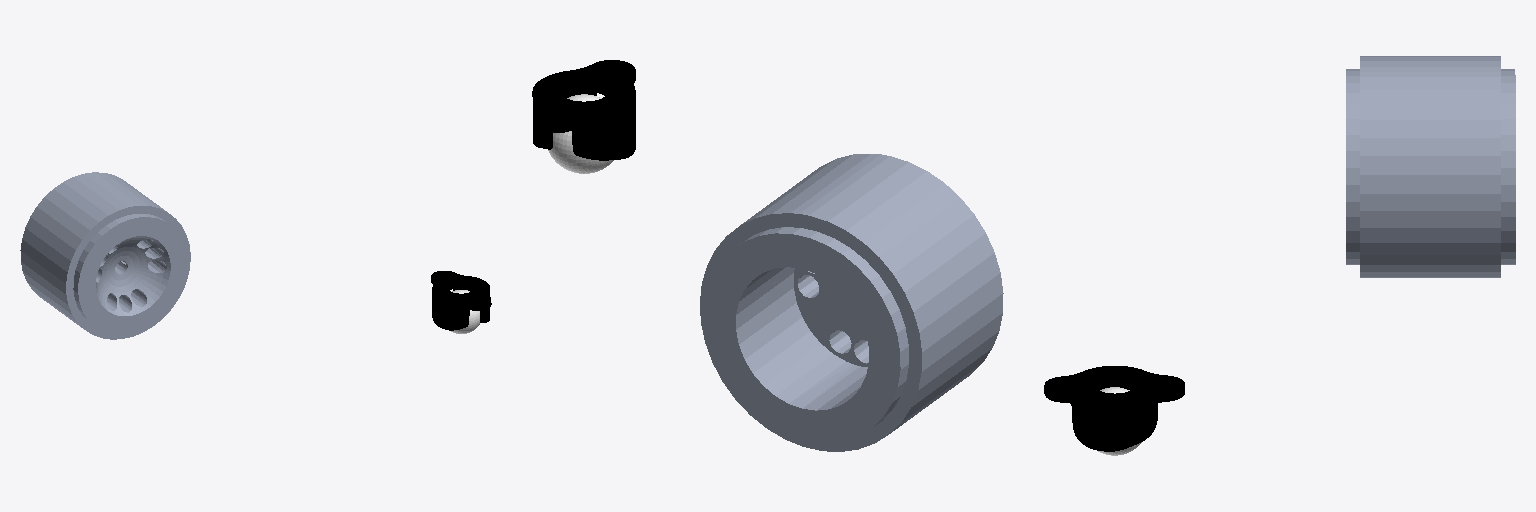
The robot description file, URDF, robot "MazeRobot_description":
<?xml version="1.0" encoding="utf-8"?>
<!-- This URDF was automatically created by SolidWorks to URDF Exporter! Originally created by [author] ([email redacted]) 
     Commit Version: 1.6.0-4-g7f85cfe  Build Version: 1.6.7995.38578
     For more information, please see http://wiki.ros.org/sw_urdf_exporter -->
<robot
  name="MazeRobot_description">
  <link
    name="base_link">
    <inertial>
      <origin
        xyz="0.00490709777806277 -0.00018980149074092 0.0158541076050415"
        rpy="0 0 0" />
      <mass
        value="0.113840294442823" />
      <inertia
        ixx="6.20713657332795E-05"
        ixy="3.73859938549773E-07"
        ixz="-2.92245316767898E-07"
        iyy="8.49118196111279E-05"
        iyz="-9.75716180324089E-08"
        izz="0.00014401772306779" />
    </inertial>
    <visual>
      <origin
        xyz="0 0 0"
        rpy="0 0 0" />
      <geometry>
        <mesh
          filename="package://MazeRobot_description/meshes/base_link.STL" />
      </geometry>
      <material
        name="">
        <color
          rgba="0.792156862745098 0.819607843137255 0.933333333333333 1" />
      </material>
    </visual>
    <collision>
      <origin
        xyz="0 0 0"
        rpy="0 0 0" />
      <geometry>
        <mesh
          filename="package://MazeRobot_description/meshes/base_link.STL" />
      </geometry>
    </collision>
  </link>
  <link
    name="L_wheel_link">
    <inertial>
      <origin
        xyz="-2.99096858125819E-05 0.000104405542786706 0.0106748994421485"
        rpy="0 0 0" />
      <mass
        value="0.0193884068569417" />
      <inertia
        ixx="2.0510194557915E-06"
        ixy="-1.38176554484537E-09"
        ixz="-1.25876332418469E-09"
        iyy="2.06467928427853E-06"
        iyz="5.48385935622177E-09"
        izz="2.44092899915579E-06" />
    </inertial>
    <visual>
      <origin
        xyz="0 0 0"
        rpy="0 0 0" />
      <geometry>
        <mesh
          filename="package://MazeRobot_description/meshes/L_wheel_link.STL" />
      </geometry>
      <material
        name="">
        <color
          rgba="0.666666666666667 0.698039215686274 0.768627450980392 1" />
      </material>
    </visual>
    <collision>
      <origin
        xyz="0 0 0"
        rpy="0 0 0" />
      <geometry>
        <mesh
          filename="package://MazeRobot_description/meshes/L_wheel_link.STL" />
      </geometry>
    </collision>
  </link>
  <joint
    name="L_Wheel_joint"
    type="continuous">
    <origin
      xyz="-0.0043278 0.031199 0.0080157"
      rpy="-1.5708 0.0038917 -0.0016425" />
    <parent
      link="base_link" />
    <child
      link="L_wheel_link" />
    <axis
      xyz="0 0 1" />
  </joint>
  <link
    name="R_wheel_link">
    <inertial>
      <origin
        xyz="5.80889775016746E-05 -8.73721543165756E-05 -0.010674936298826"
        rpy="0 0 0" />
      <mass
        value="0.0193884068569417" />
      <inertia
        ixx="2.0551514945078E-06"
        ixy="-6.42512948553551E-09"
        ixz="-3.05250616726642E-09"
        iyy="2.06054394462654E-06"
        iyz="4.59129190656125E-09"
        izz="2.44093230009149E-06" />
    </inertial>
    <visual>
      <origin
        xyz="0 0 0"
        rpy="0 0 0" />
      <geometry>
        <mesh
          filename="package://MazeRobot_description/meshes/R_wheel_link.STL" />
      </geometry>
      <material
        name="">
        <color
          rgba="0.666666666666667 0.698039215686274 0.768627450980392 1" />
      </material>
    </visual>
    <collision>
      <origin
        xyz="0 0 0"
        rpy="0 0 0" />
      <geometry>
        <mesh
          filename="package://MazeRobot_description/meshes/R_wheel_link.STL" />
      </geometry>
    </collision>
  </link>
  <joint
    name="R_wheel_joint"
    type="continuous">
    <origin
      xyz="-0.0043053 -0.0312 0.008035"
      rpy="-1.5708 0 0.00018716" />
    <parent
      link="base_link" />
    <child
      link="R_wheel_link" />
    <axis
      xyz="0 0 1" />
  </joint>
  <link
    name="base_ball_link">
    <inertial>
      <origin
        xyz="-0.000156741560749171 3.66156148715047E-06 0.00175642003782412"
        rpy="0 0 0" />
      <mass
        value="0.000334626588702842" />
      <inertia
        ixx="6.32096281729359E-09"
        ixy="1.38188367097301E-11"
        ixz="1.72903645492289E-10"
        iyy="6.91894812583214E-09"
        iyz="-3.84168963283986E-12"
        izz="1.0328131558991E-08" />
    </inertial>
    <visual>
      <origin
        xyz="0 0 0"
        rpy="0 0 0" />
      <geometry>
        <mesh
          filename="package://MazeRobot_description/meshes/base_ball_link.STL" />
      </geometry>
      <material
        name="">
        <color
          rgba="0 0 0 1" />
      </material>
    </visual>
    <collision>
      <origin
        xyz="0 0 0"
        rpy="0 0 0" />
      <geometry>
        <mesh
          filename="package://MazeRobot_description/meshes/base_ball_link.STL" />
      </geometry>
    </collision>
  </link>
  <joint
    name="base_ball_joint"
    type="fixed">
    <origin
      xyz="0.0564228989028418 -3.72202777769552E-05 0.00311838120082205"
      rpy="-3.13827653428421 0 1.57098348766261" />
    <parent
      link="base_link" />
    <child
      link="base_ball_link" />
    <axis
      xyz="0 0 0" />
  </joint>
  <link
    name="foward_ball_link">
    <inertial>
      <origin
        xyz="0 -6.93889390390723E-18 3.46944695195361E-18"
        rpy="0 0 0" />
      <mass
        value="0.000421160340343921" />
      <inertia
        ixx="3.64261578363457E-09"
        ixy="-1.2278462217584E-25"
        ixz="1.29246970711411E-26"
        iyy="3.64261578363457E-09"
        iyz="-2.62532909257553E-27"
        izz="3.64261578363457E-09" />
    </inertial>
    <visual>
      <origin
        xyz="0 0 0"
        rpy="0 0 0" />
      <geometry>
        <mesh
          filename="package://MazeRobot_description/meshes/foward_ball_link.STL" />
      </geometry>
      <material
        name="">
        <color
          rgba="1 1 1 1" />
      </material>
    </visual>
    <collision>
      <origin
        xyz="0 0 0"
        rpy="0 0 0" />
      <geometry>
        <mesh
          filename="package://MazeRobot_description/meshes/foward_ball_link.STL" />
      </geometry>
    </collision>
  </link>
  <joint
    name="foward_ball_joint"
    type="fixed">
    <origin
      xyz="0 0 0.0048155"
      rpy="1.5467 0.018736 1.5131" />
    <parent
      link="base_ball_link" />
    <child
      link="foward_ball_link" />
    <axis
      xyz="0 0 0" />
  </joint>
  <link
    name="lateral_ball_link">
    <inertial>
      <origin
        xyz="0 0 0"
        rpy="0 0 0" />
      <mass
        value="0.000421160340343921" />
      <inertia
        ixx="3.64261578363457E-09"
        ixy="6.46234853557053E-27"
        ixz="1.29246970711411E-25"
        iyy="3.64261578363457E-09"
        iyz="6.46234853557053E-27"
        izz="3.64261578363457E-09" />
    </inertial>
    <visual>
      <origin
        xyz="0 0 0"
        rpy="0 0 0" />
      <geometry>
        <mesh
          filename="package://MazeRobot_description/meshes/lateral_ball_link.STL" />
      </geometry>
      <material
        name="">
        <color
          rgba="1 1 1 1" />
      </material>
    </visual>
    <collision>
      <origin
        xyz="0 0 0"
        rpy="0 0 0" />
      <geometry>
        <mesh
          filename="package://MazeRobot_description/meshes/lateral_ball_link.STL" />
      </geometry>
    </collision>
  </link>
  <joint
    name="lateral_ball_joint"
    type="fixed">
    <origin
      xyz="0 0 0.00481546875"
      rpy="-3.14159265358979 -0.0644086959094416 1.54850253991482" />
    <parent
      link="base_ball_link" />
    <child
      link="lateral_ball_link" />
    <axis
      xyz="0.99745539057873 -0.0224789316084745 0.0676567915229082" />
  </joint>
</robot>

--- Render facts (derived) ---
The picture shows the robot from 3 angles, left to right: view 1: azimuth 30°, elevation 25°; view 2: azimuth 150°, elevation 25°; view 3: azimuth 270°, elevation 25°; orthographic projection.
Model MazeRobot_description with 6 links and 5 joints (2 continuous, 3 fixed), rooted at base_link, posed every joint at zero.
Links seen in each view (by area): view 1: L_wheel_link, base_ball_link; view 2: L_wheel_link, base_ball_link, foward_ball_link; view 3: L_wheel_link, base_ball_link.
Boxes of the visible links, x1=… form: L_wheel_link: x1=20, y1=172, x2=190, y2=339; base_ball_link: x1=431, y1=271, x2=491, y2=330; L_wheel_link: x1=700, y1=154, x2=1003, y2=451; base_ball_link: x1=532, y1=60, x2=635, y2=160; foward_ball_link: x1=548, y1=133, x2=613, y2=173; L_wheel_link: x1=1346, y1=56, x2=1515, y2=277; base_ball_link: x1=1044, y1=366, x2=1184, y2=451.
Size in the robot's own frame: 0.0818 by 0.0638 by 0.03 metres.
Meshes: 6 distinct files referenced, 4 mesh visuals loaded (4 binary STL); not drawn: 2 (reference not matched to a file when rendering).